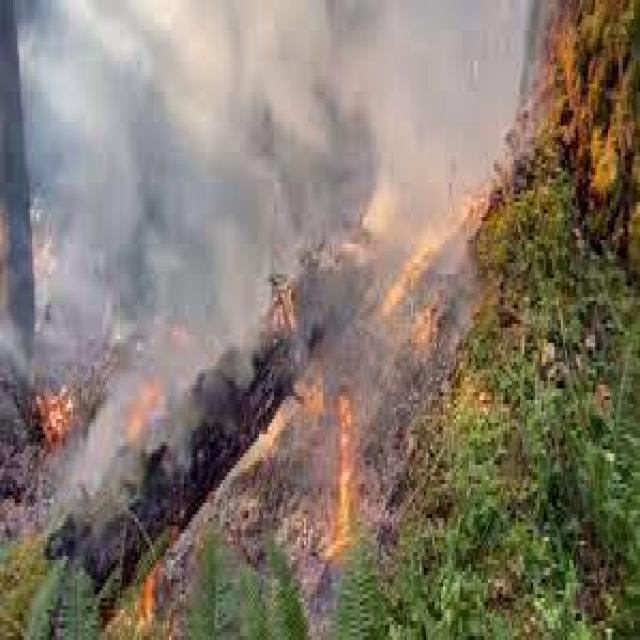Fire: (202, 128, 488, 356), (310, 370, 374, 570), (26, 334, 104, 480), (104, 543, 188, 640), (130, 370, 176, 460)
Smoke: (64, 0, 432, 251), (89, 0, 347, 351), (30, 0, 472, 185)
